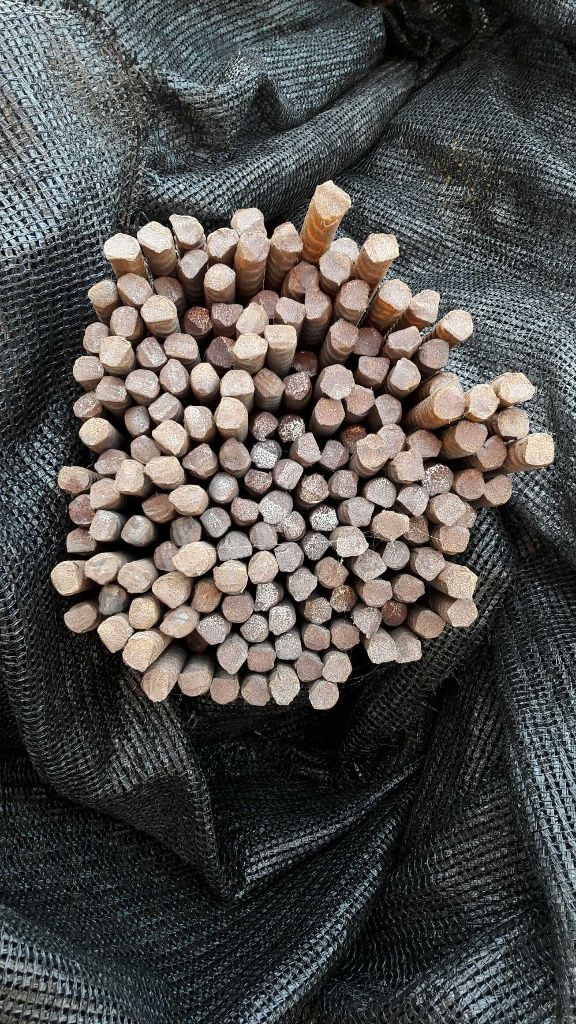dipstick: (316, 180, 350, 217), (442, 565, 477, 599), (50, 561, 83, 597), (321, 364, 356, 397), (137, 222, 173, 254), (413, 545, 445, 581), (168, 484, 206, 514), (96, 616, 126, 654), (168, 213, 203, 245), (174, 545, 209, 577), (258, 492, 294, 523), (103, 233, 140, 263), (499, 373, 536, 403), (152, 577, 188, 607), (270, 669, 299, 706), (270, 222, 304, 253), (117, 271, 151, 302), (189, 362, 220, 396), (429, 494, 463, 525), (183, 443, 214, 477), (119, 563, 153, 594), (85, 554, 119, 585), (217, 638, 246, 674), (161, 609, 198, 637), (394, 450, 426, 482), (205, 227, 238, 258), (126, 368, 159, 399), (152, 421, 183, 454), (219, 439, 250, 472), (249, 551, 280, 584), (214, 563, 247, 594), (163, 332, 197, 362), (436, 386, 466, 420), (208, 677, 242, 707), (121, 637, 151, 671), (140, 668, 170, 702), (338, 279, 369, 311), (215, 397, 245, 430), (286, 571, 319, 601), (373, 511, 407, 540), (183, 404, 211, 439), (219, 369, 255, 396), (144, 458, 180, 485), (135, 337, 166, 368), (457, 421, 488, 452), (300, 471, 331, 502), (444, 309, 474, 341), (469, 385, 499, 417), (356, 549, 386, 581), (394, 573, 426, 603), (317, 556, 349, 586), (158, 360, 187, 393), (408, 429, 441, 458), (358, 434, 387, 467), (139, 493, 172, 522), (273, 457, 301, 491), (238, 301, 268, 332), (497, 407, 528, 437), (478, 437, 508, 468), (439, 524, 469, 555), (394, 633, 425, 663), (191, 581, 221, 612), (128, 599, 158, 630), (378, 279, 410, 308), (392, 357, 421, 389), (314, 397, 346, 426), (337, 526, 370, 554), (445, 600, 479, 627), (62, 604, 96, 631), (321, 250, 351, 280), (88, 480, 118, 510), (205, 337, 236, 366), (206, 473, 237, 502), (238, 231, 270, 259), (231, 207, 263, 235), (367, 232, 399, 260), (77, 418, 109, 446), (388, 326, 421, 353), (217, 534, 250, 561), (422, 339, 451, 369), (455, 469, 484, 499), (366, 478, 396, 507), (367, 636, 396, 666), (323, 654, 352, 684), (237, 332, 268, 360), (412, 289, 439, 321), (425, 464, 452, 496), (141, 296, 174, 322), (358, 355, 391, 381), (179, 249, 208, 278), (374, 394, 403, 423), (249, 521, 278, 550), (201, 508, 230, 537), (130, 435, 160, 463), (526, 434, 554, 464), (484, 475, 512, 505), (399, 485, 427, 515), (118, 461, 145, 492), (308, 504, 339, 531), (303, 289, 329, 321), (377, 424, 403, 456), (169, 517, 201, 543), (153, 275, 181, 304), (329, 318, 358, 346), (255, 368, 284, 396), (322, 439, 350, 468), (353, 606, 381, 635), (294, 654, 323, 682), (303, 532, 331, 561), (291, 260, 318, 290), (87, 278, 117, 305), (100, 337, 130, 364), (96, 376, 126, 403), (347, 384, 374, 414), (302, 623, 332, 650), (98, 585, 128, 612), (346, 496, 372, 527), (243, 675, 269, 706), (204, 263, 236, 288), (72, 356, 104, 381), (297, 432, 322, 464), (251, 440, 279, 468), (121, 517, 149, 545), (381, 600, 409, 628), (109, 305, 136, 334), (72, 390, 101, 417), (122, 405, 149, 434), (149, 393, 178, 420), (311, 684, 340, 711), (274, 542, 301, 571), (185, 305, 211, 335), (355, 325, 381, 355), (90, 511, 116, 541), (247, 646, 277, 672), (223, 595, 253, 621), (58, 467, 89, 492), (81, 322, 109, 349), (333, 469, 360, 497), (416, 610, 444, 637), (240, 616, 268, 643), (179, 670, 206, 698), (276, 296, 305, 322), (333, 624, 362, 650), (275, 632, 301, 661), (254, 583, 280, 612), (268, 607, 295, 634), (199, 617, 226, 644), (252, 411, 278, 439), (278, 414, 304, 442), (329, 586, 355, 614), (231, 496, 260, 521), (154, 541, 179, 570), (94, 449, 124, 473), (264, 324, 295, 347), (65, 528, 96, 551), (362, 581, 393, 604), (67, 496, 93, 523), (332, 235, 360, 260), (384, 540, 409, 568), (305, 598, 333, 623), (279, 511, 304, 539), (283, 373, 310, 398), (343, 421, 367, 448), (245, 470, 273, 493), (408, 516, 430, 544), (429, 373, 464, 390), (211, 302, 239, 323), (294, 350, 317, 375), (255, 288, 277, 314), (185, 631, 209, 654), (459, 500, 478, 529)
